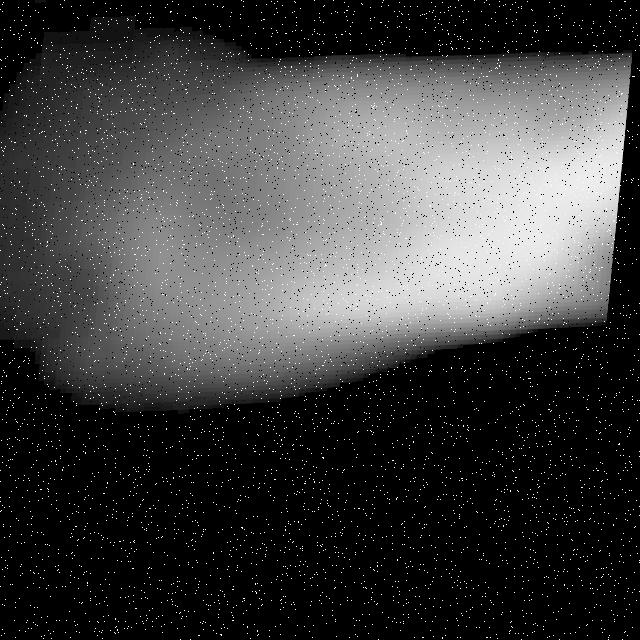person: (96, 16, 638, 402)
